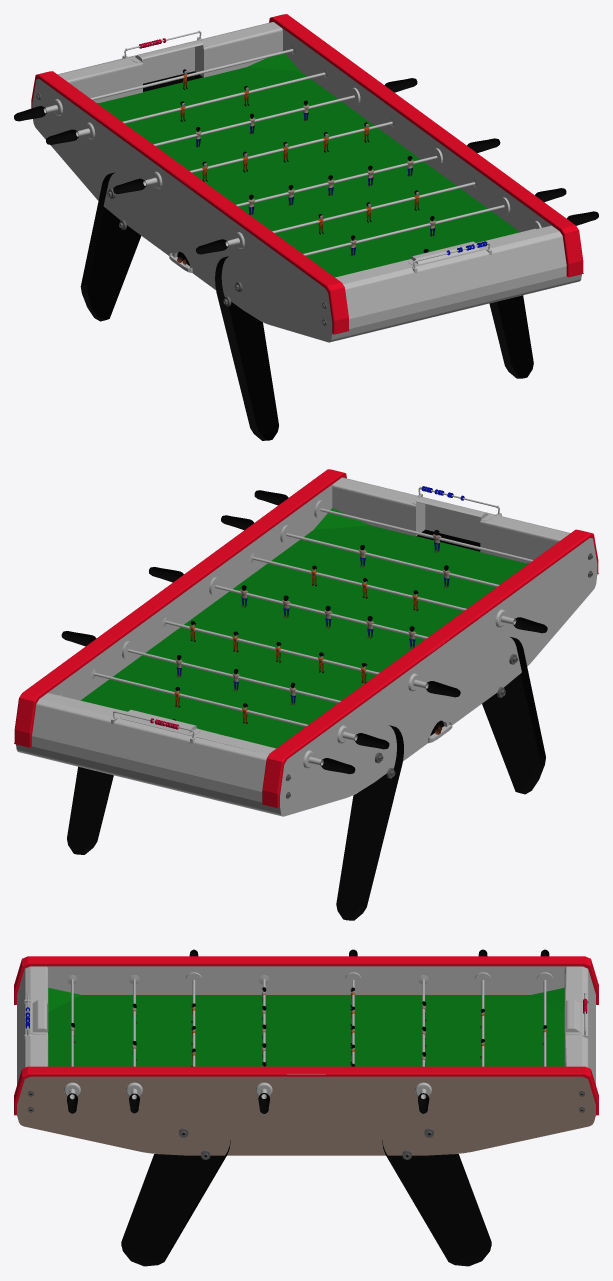
File: babyfoot.fbx
3 views of the same model, one above another, from view 1: azimuth 30°, elevation 25°; view 2: azimuth 150°, elevation 25°; view 3: azimuth 270°, elevation 25° (orthographic). The views are drawn at different scales.
Parts seen in each view (by area): view 1: Babyfoot, Bois; view 2: Babyfoot, Bois; view 3: Babyfoot, Bois.
Part boxes in pixels (x1,y1,x2,y2): Babyfoot: [14, 14, 598, 440]; Bois: [32, 22, 581, 342]; Babyfoot: [14, 469, 598, 920]; Bois: [16, 477, 597, 816]; Babyfoot: [14, 949, 598, 1266]; Bois: [17, 966, 595, 1155].
Size of the model in its own units: 523 by 299 by 807.
